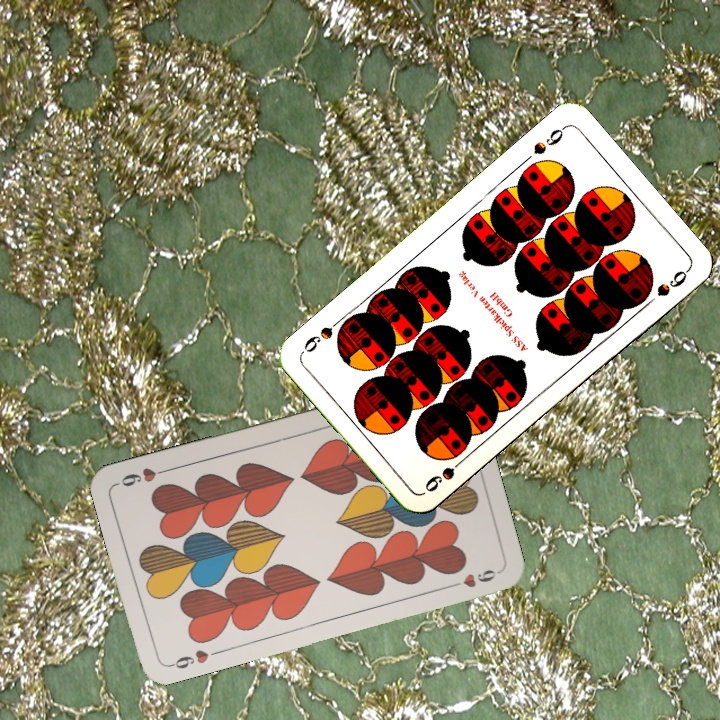H9: (164, 645, 211, 672)
S9: (420, 452, 470, 495), (529, 122, 569, 157)
